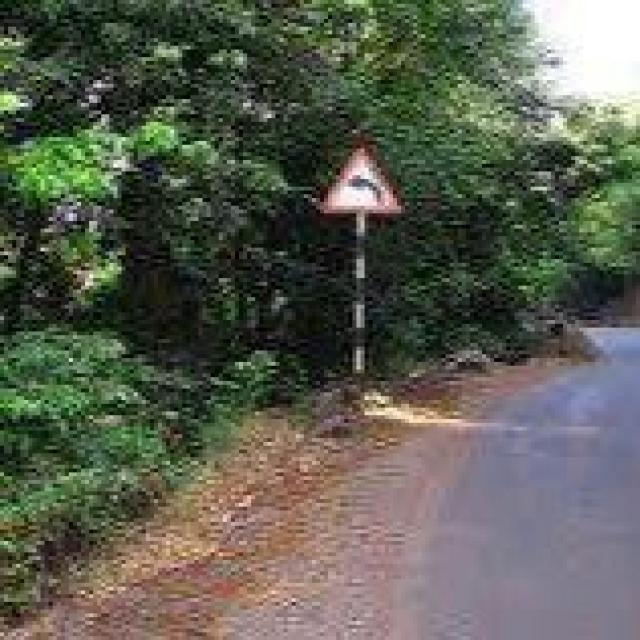left_hand_curve: (316, 146, 408, 214)
